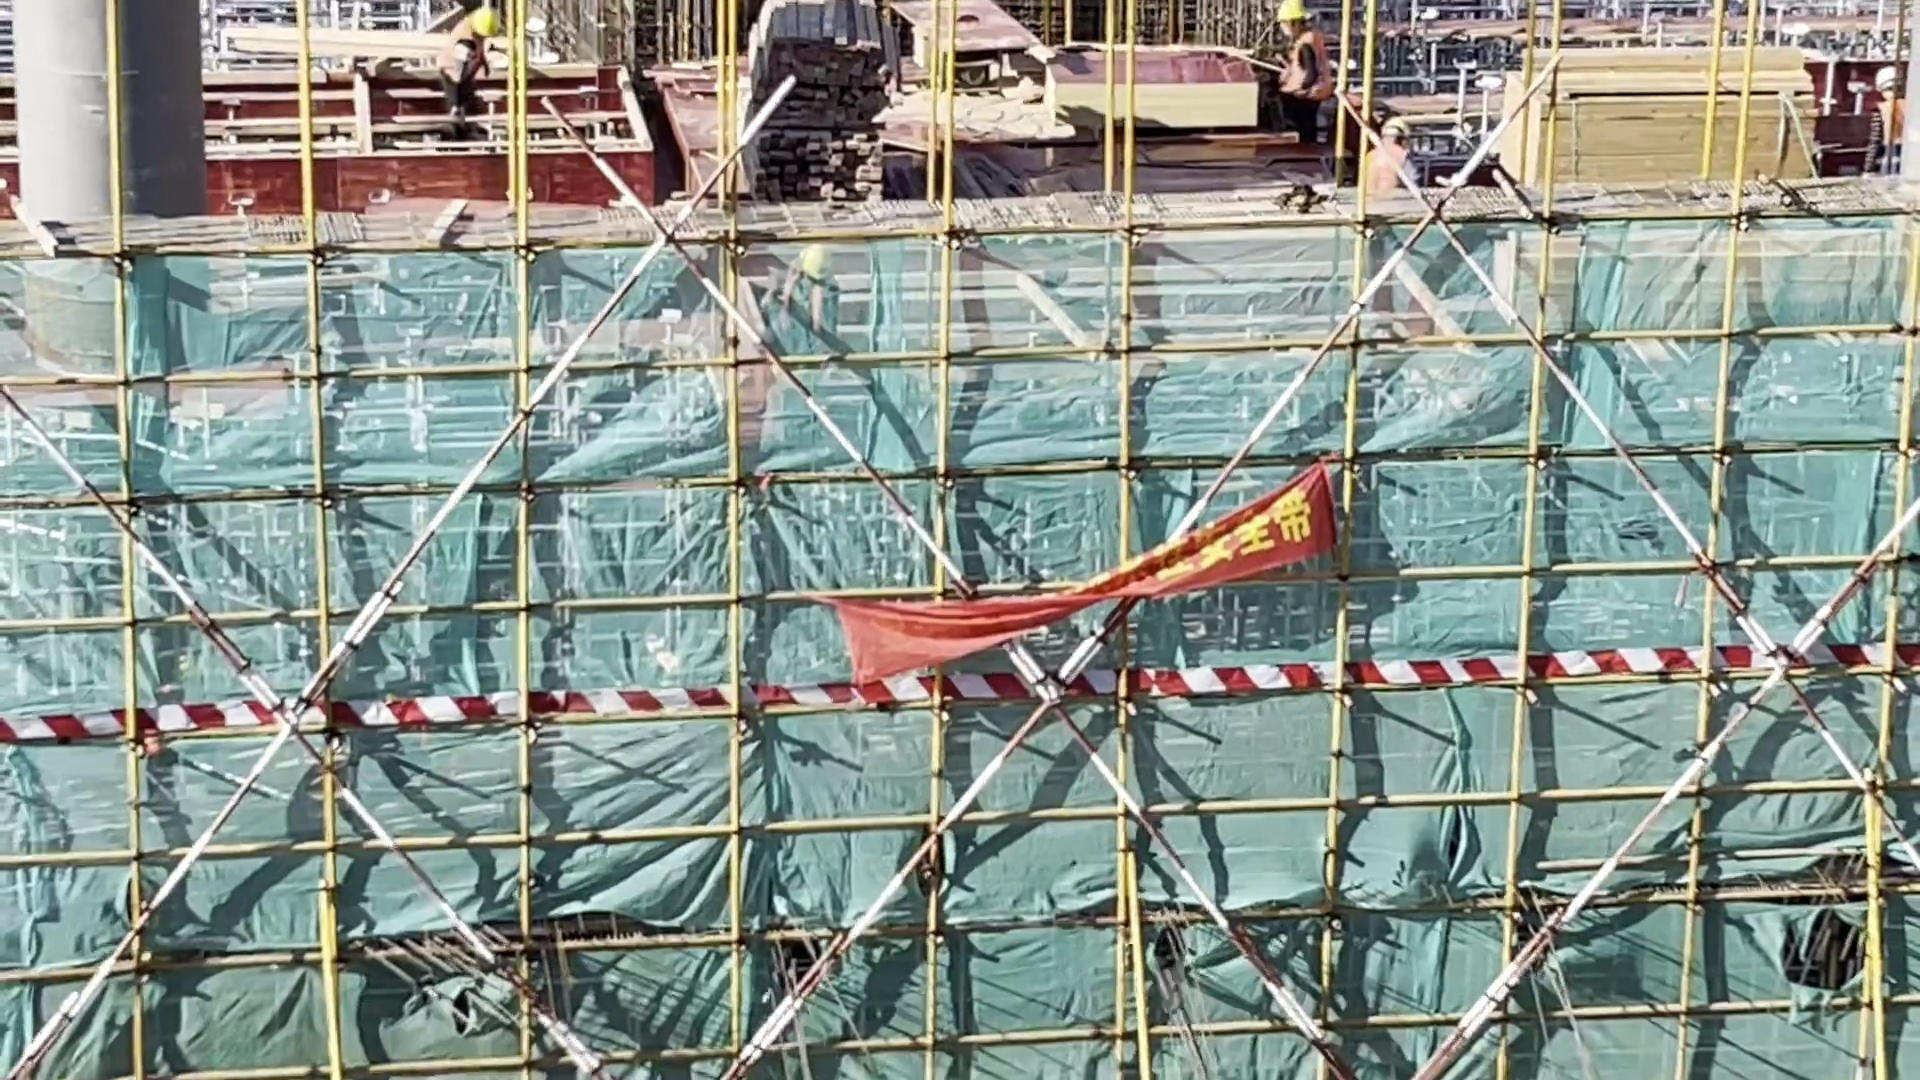helmet: (458, 2, 503, 41), (1277, 1, 1317, 32), (1870, 64, 1901, 94)
person: (1262, 4, 1333, 163), (429, 8, 508, 139), (1847, 64, 1908, 182)
slogan: (806, 466, 1374, 695)
vest: (1278, 38, 1332, 104), (1864, 98, 1912, 171), (436, 13, 482, 82)
wood: (1482, 17, 1832, 206), (721, 1, 918, 211)
